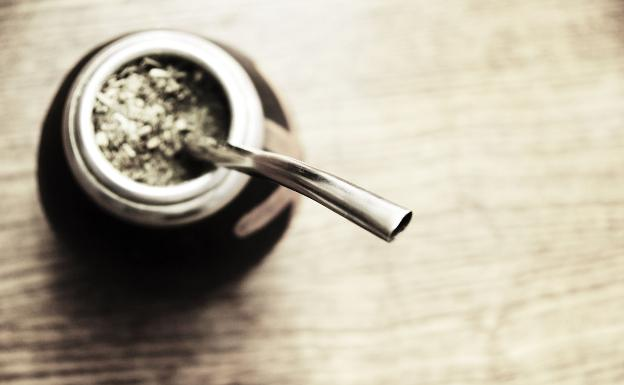guampa: (25, 6, 414, 323)
